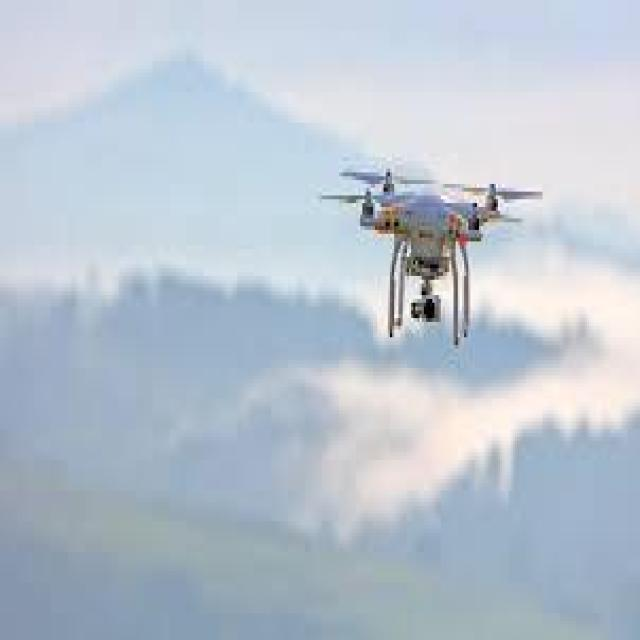drones: (316, 142, 549, 352)
